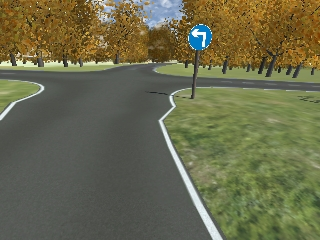left: (189, 24, 212, 49)
